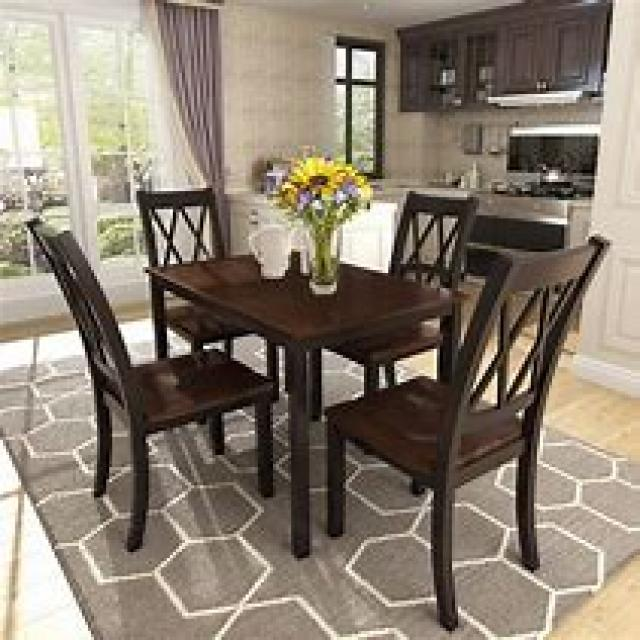chair: (322, 230, 610, 628), (21, 212, 276, 549)
table: (143, 249, 467, 558)
